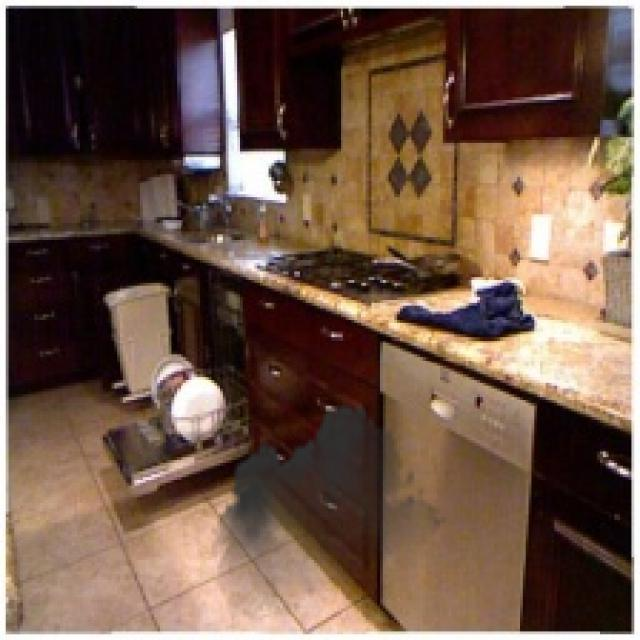Smoke: (212, 394, 448, 634)
